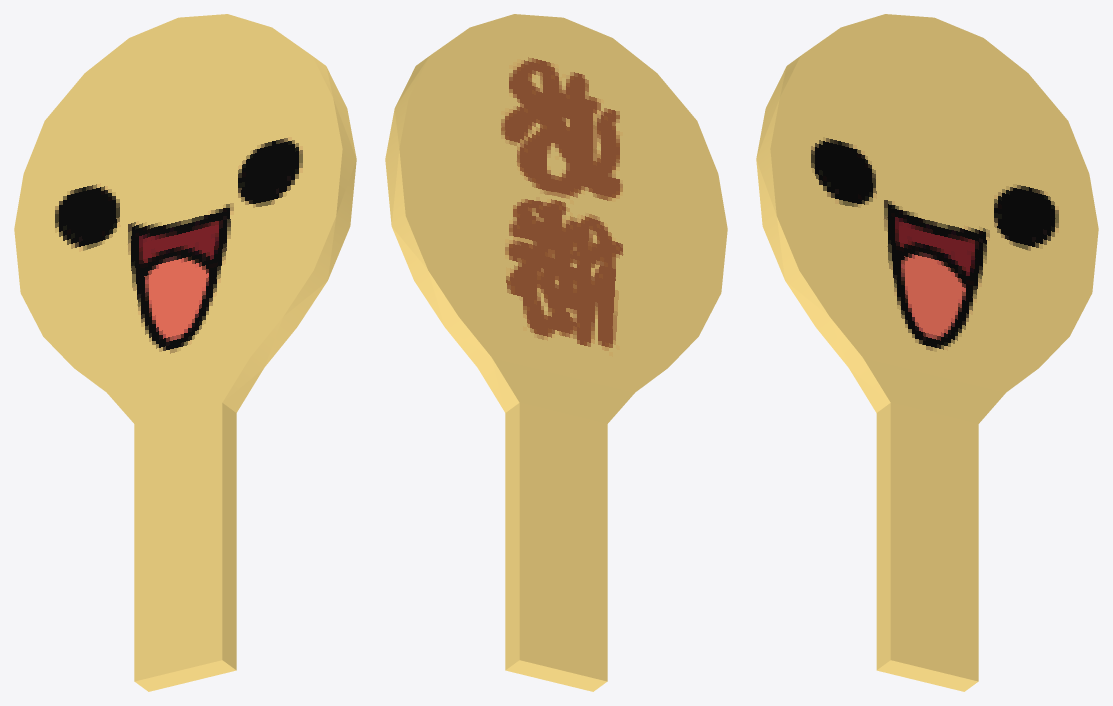
The model's file is ps2_save-icons_taikotobikkiri.glb.
3 renders of one model, left to right at view 1: azimuth 30°, elevation 25°; view 2: azimuth 150°, elevation 25°; view 3: azimuth 330°, elevation 25°, orthographic.
Visible parts, largest first — view 1: icon.ico; view 2: icon.ico; view 3: icon.ico.
Part boxes in pixels (x1,y1,x2,y2): icon.ico: (14, 14, 356, 691); icon.ico: (385, 14, 727, 691); icon.ico: (756, 14, 1098, 691).
Bounding box in the file's own units: 2.43 × 4.62 × 0.1821.
Materials: 1 (1 with a texture image).
